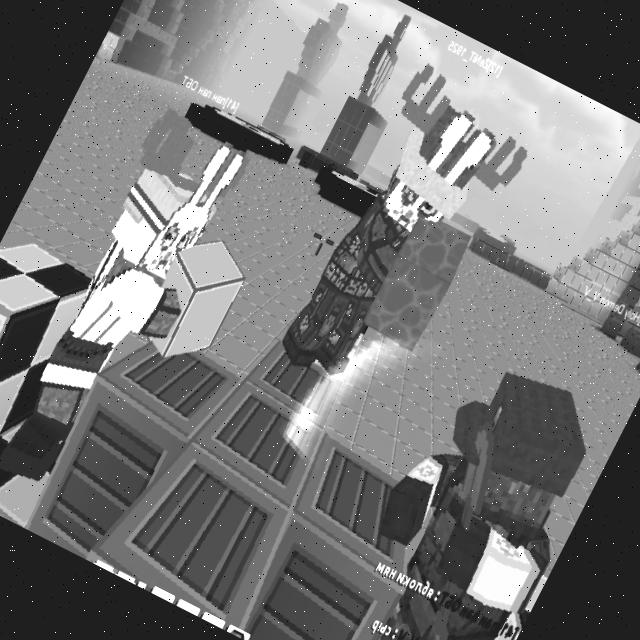Head: (441, 370, 597, 541), (100, 152, 226, 290), (372, 128, 481, 248)
Player: (299, 323, 632, 640), (0, 151, 242, 512), (273, 93, 497, 406)
